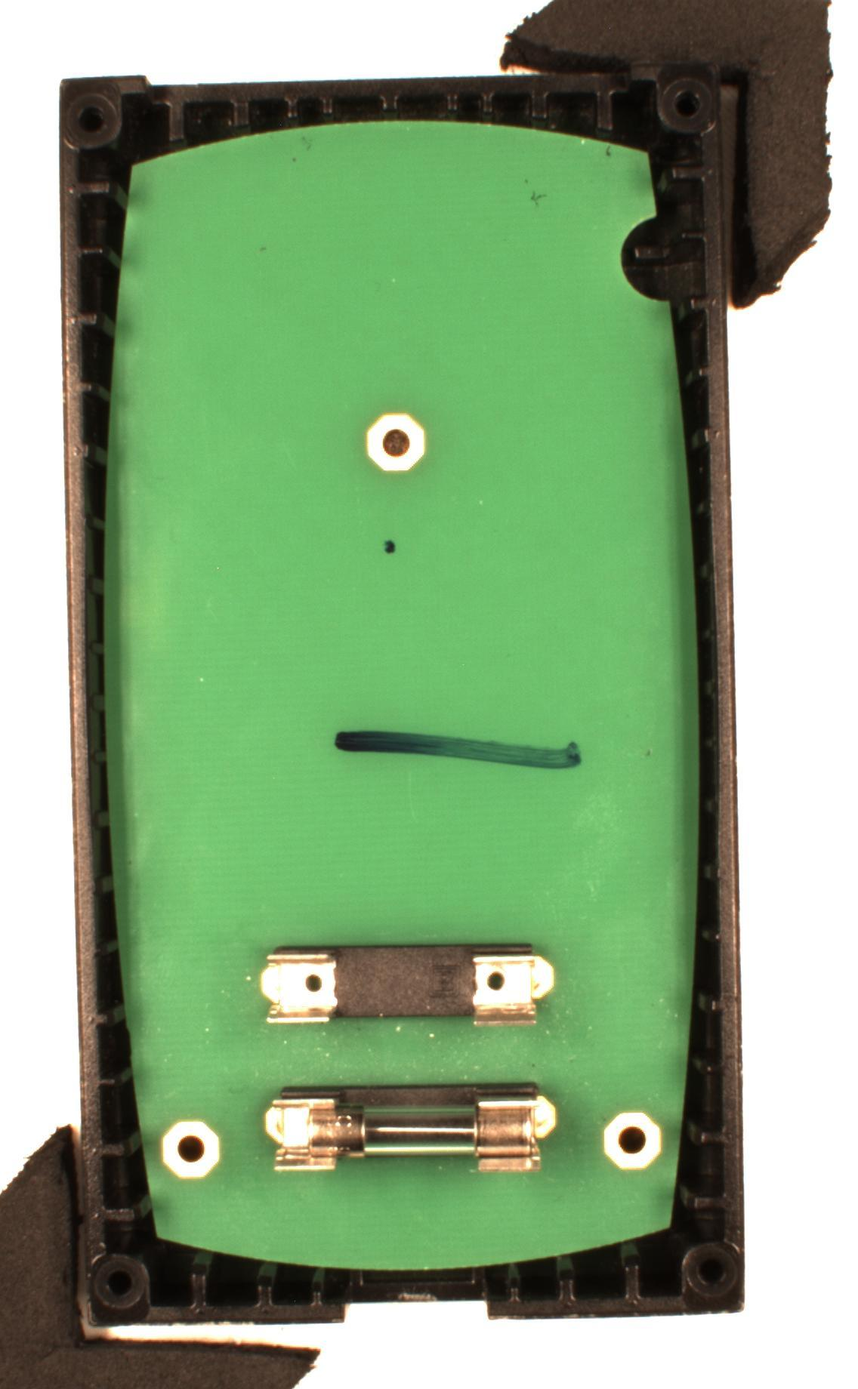Linijsko Ostecene: (329, 721, 584, 775)
Nepostojanje osiguraca: (256, 940, 558, 1028)
Tockasto Ostecenje: (381, 537, 400, 557)
